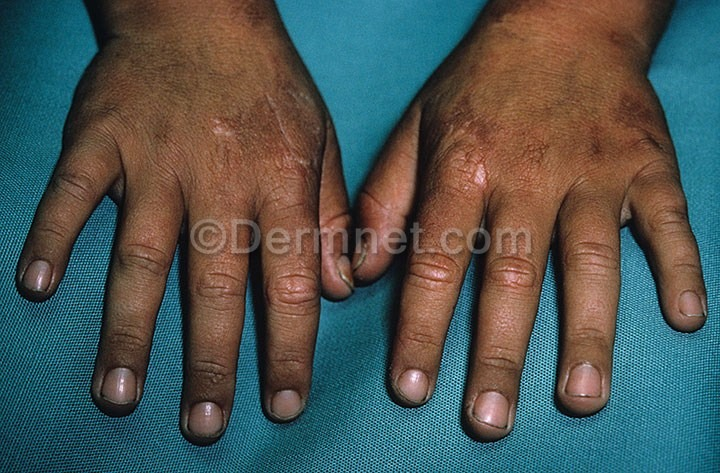Melasma: (101, 0, 354, 42), (581, 86, 652, 173), (603, 15, 633, 61), (302, 0, 720, 1)
